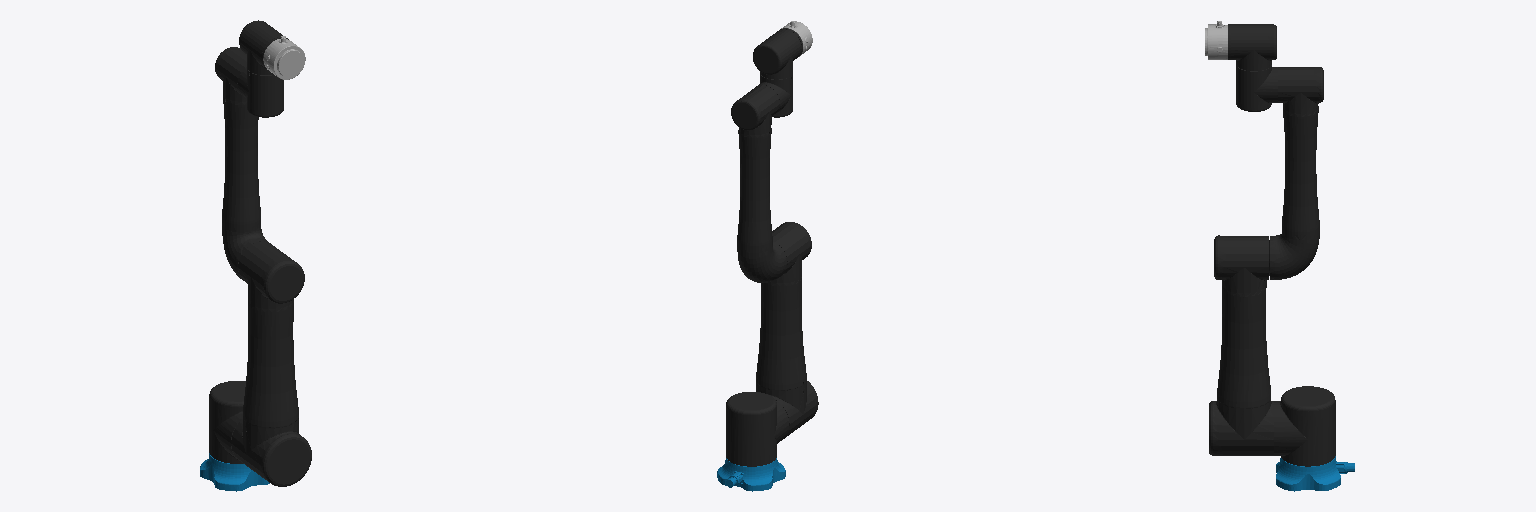
robot.urdf — orion5:
<?xml version="1.0" ?>

<robot name="orion5">

  <link name="world"/>

  <joint name="world_fixed_joint" type="fixed">
    <origin rpy="0 0 0" xyz="0.0 0.0 0.0"/>
    <parent link="world"/>
    <child link="base_link"/>
  </joint>

  <material name="black">
    <color rgba="0.2 0.2 0.2 1.0"/>
  </material>
  <material name="gray">
    <color rgba="0.7 0.7 0.7 1.0"/>
  </material>
  <material name="blue">
    <color rgba="0.1 0.5 0.7 1.0"/>
  </material>

  <link name="base_link">
    <inertial>
      <origin rpy="0 0 0" xyz="0.00000 0.00169 0.02699"/>
      <mass value="0.43234"/>
      <inertia ixx="0.00108" ixy="0.00002" ixz="0.00000" iyy="0.00063" iyz="-0.00004" izz="0.00144"/>
    </inertial>
    <visual>
      <origin rpy="0 0 1.57080" xyz="0 0 0"/>
      <geometry>
        <mesh filename="package://orion5_humble_description/meshes/stl/base_link.stl"/>
      </geometry>
      <material name="blue"/>
    </visual>
    <collision>
      <origin rpy="0 0 1.57080" xyz="0 0 0"/>
      <geometry>
        <mesh filename="package://orion5_humble_description/meshes/stl/base_link.stl"/>
      </geometry>
    </collision>
  </link>

  <joint name="joint_1" type="revolute">
    <origin rpy="0 0 0" xyz="0 0 0"/>
    <parent link="base_link"/>
    <child link="link_1"/>
    <axis xyz="0 0 1"/>
    <limit effort="87" lower="-3.14" upper="3.14" velocity="1.57"/>
    <dynamics damping="0.1" friction="0.1"/>
  </joint>

  <link name="link_1">
    <inertial>
      <origin rpy="0 0 0" xyz="-0.00001 -0.00518 0.12742"/>
      <mass value="1.49770"/>
      <inertia ixx="0.00534" ixy="0.00007" ixz="-0.00005" iyy="0.00429" iyz="0.00042" izz="0.00403"/>
    </inertial>
    <visual>
      <origin rpy="0 0 -1.57080" xyz="0 0 0.05375"/>
      <geometry>
        <mesh filename="package://orion5_humble_description/meshes/stl/link_1.stl"/>
      </geometry>
      <material name="black"/>
    </visual>
    <collision>
      <origin rpy="0 0 -1.57080" xyz="0 0 0.05375"/>
      <geometry>
        <mesh filename="package://orion5_humble_description/meshes/stl/link_1.stl"/>
      </geometry>
    </collision>
  </link>

  <joint name="joint_2" type="revolute">
    <origin rpy="1.57080 0 0" xyz="0 0 0.12200"/>
    <parent link="link_1"/>
    <child link="link_2"/>
    <axis xyz="0 0 1"/>
    <limit effort="87" lower="-3.14" upper="3.14" velocity="1.57"/>
    <dynamics damping="0.1" friction="0.1"/>
  </joint>

  <link name="link_2">
    <inertial>
      <origin rpy="0 0 0" xyz="0.00000 0.17648 0.14370"/>
      <mass value="3.95670"/>
      <inertia ixx="0.10620" ixy="0.00007" ixz="0.00010" iyy="0.10302" iyz="-0.00106" izz="0.00923"/>
    </inertial>
    <visual>
      <origin rpy="0 0 0" xyz="0 0 0.06300"/>
      <geometry>
        <mesh filename="package://orion5_humble_description/meshes/stl/link_2.stl"/>
      </geometry>
      <material name="black"/>
    </visual>
    <collision>
      <origin rpy="0 0 0" xyz="0 0 0.06300"/>
      <geometry>
        <mesh filename="package://orion5_humble_description/meshes/stl/link_2.stl"/>
      </geometry>
    </collision>
  </link>

  <joint name="joint_3" type="revolute">
    <origin rpy="0 0 -1.57080" xyz="0 0.42100 0"/>
    <parent link="link_2"/>
    <child link="link_3"/>
    <axis xyz="0 0 1"/>
    <limit effort="52" lower="-3.14" upper="3.14" velocity="1.57"/>
    <dynamics damping="0.1" friction="0.1"/>
  </joint>

  <link name="link_3">
    <inertial>
      <origin rpy="0 0 0" xyz="-0.20718 0.00000 0.02333"/>
      <mass value="1.08680"/>
      <inertia ixx="0.02873" ixy="0.00000" ixz="-0.00005" iyy="0.02832" iyz="-0.00127" izz="0.00131"/>
    </inertial>
    <visual>
      <origin rpy="-3.14159 0 1.57080" xyz="0 0 0.08650"/>
      <geometry>
        <mesh filename="package://orion5_humble_description/meshes/stl/link_3.stl"/>
      </geometry>
      <material name="black"/>
    </visual>
    <collision>
      <origin rpy="-3.14159 0 1.57080" xyz="0 0 0.08650"/>
      <geometry>
        <mesh filename="package://orion5_humble_description/meshes/stl/link_3.stl"/>
      </geometry>
    </collision>
  </link>

  <joint name="joint_4" type="revolute">
    <origin rpy="0 0 0" xyz="-0.42700 0 0"/>
    <parent link="link_3"/>
    <child link="link_4"/>
    <axis xyz="0 0 1"/>
    <limit effort="10" lower="-3.14" upper="3.14" velocity="1.57"/>
    <dynamics damping="0.1" friction="0.1"/>
  </joint>

  <link name="link_4">
    <inertial>
      <origin rpy="0 0 0" xyz="-0.00399 0.00000 0.11685"/>
      <mass value="0.50427"/>
      <inertia ixx="0.00073" ixy="0.00000" ixz="0.00000" iyy="0.00066" iyz="0.00001" izz="0.00049"/>
    </inertial>
    <visual>
      <origin rpy="0 0 -1.57080" xyz="0 0 0.06800"/>
      <geometry>
        <mesh filename="package://orion5_humble_description/meshes/stl/link_4.stl"/>
      </geometry>
      <material name="black"/>
    </visual>
    <collision>
      <origin rpy="0 0 -1.57080" xyz="0 0 0.06800"/>
      <geometry>
        <mesh filename="package://orion5_humble_description/meshes/stl/link_4.stl"/>
      </geometry>
    </collision>
  </link>

  <joint name="joint_5" type="revolute">
    <origin rpy="1.57080 0 -1.57080" xyz="0 0 0.12100"/>
    <parent link="link_4"/>
    <child link="link_5"/>
    <axis xyz="0 0 1"/>
    <limit effort="10" lower="-3.14" upper="3.14" velocity="1.57"/>
    <dynamics damping="0.1" friction="0.1"/>
  </joint>

  <link name="link_5">
    <inertial>
      <origin rpy="0 0 0" xyz="0.00000 0.00467 0.10098"/>
      <mass value="0.23998"/>
      <inertia ixx="0.00045" ixy="-0.00000" ixz="-0.00000" iyy="0.00023" iyz="-0.00001" izz="0.00041"/>
    </inertial>
    <visual>
      <origin rpy="0 0 1.57080" xyz="0 0 0.05200"/>
      <geometry>
        <mesh filename="package://orion5_humble_description/meshes/stl/link_5.stl"/>
      </geometry>
      <material name="black"/>
    </visual>
    <collision>
      <origin rpy="0 0 1.57080" xyz="0 0 0.05200"/>
      <geometry>
        <mesh filename="package://orion5_humble_description/meshes/stl/link_5.stl"/>
      </geometry>
    </collision>
  </link>

  <joint name="joint_6" type="revolute">
    <origin rpy="-1.57080 0 0" xyz="0 0 0.10500"/>
    <parent link="link_5"/>
    <child link="link_6"/>
    <axis xyz="0 0 1"/>
    <limit effort="10" lower="-3.14" upper="3.14" velocity="1.57"/>
    <dynamics damping="0.1" friction="0.1"/>
  </joint>

  <link name="link_6">
    <inertial>
      <origin rpy="0 0 0" xyz="0.00003 -0.00024 0.08347"/>
      <mass value="0.23998"/>
      <inertia ixx="0.00024" ixy="0.00000" ixz="0.00001" iyy="0.00029" iyz="-0.00001" izz="0.00014"/>
    </inertial>
    <visual>
      <origin rpy="0 0 0" xyz="0 0 0.05900"/>
      <geometry>
        <mesh filename="package://orion5_humble_description/meshes/stl/link_6.stl"/>
      </geometry>
      <material name="gray"/>
    </visual>
    <collision>
      <origin rpy="0 0 0" xyz="0 0 0.05900"/>
      <geometry>
        <mesh filename="package://orion5_humble_description/meshes/stl/link_6.stl"/>
      </geometry>
    </collision>
  </link>

  <joint name="tool0_fixed_joint" type="fixed">
    <origin rpy="0 0 0" xyz="0 0 0.1089"/>
    <parent link="link_6"/>
    <child link="tool0"/>
  </joint>

  <link name="tool0">
    <inertial>
      <origin rpy="0 0 0" xyz="0 0 0"/>
      <mass value="0.0"/>
      <inertia ixx="0" ixy="0" ixz="0" iyy="0" iyz="0" izz="0"/>
    </inertial>
  </link>

  <!-- Gazebo Ros Transmission -->
  <transmission name="j1_transmission">
    <type>transmission_interface/SimpleTransmission</type>
    <joint name="joint_1">
      <hardwareInterface>hardware_interface/EffortJointInterface</hardwareInterface>
    </joint>
    <actuator name="j1_actuator">
      <hardwareInterface>hardware_interface/EffortJointInterface</hardwareInterface>
      <mechanicalReduction>1</mechanicalReduction>
    </actuator>
  </transmission>
  <transmission name="j2_transmission">
    <type>transmission_interface/SimpleTransmission</type>
    <joint name="joint_2">
      <hardwareInterface>hardware_interface/EffortJointInterface</hardwareInterface>
    </joint>
    <actuator name="j2_actuator">
      <hardwareInterface>hardware_interface/EffortJointInterface</hardwareInterface>
      <mechanicalReduction>1</mechanicalReduction>
    </actuator>
  </transmission>
  <transmission name="j3_transmission">
    <type>transmission_interface/SimpleTransmission</type>
    <joint name="joint_3">
      <hardwareInterface>hardware_interface/EffortJointInterface</hardwareInterface>
    </joint>
    <actuator name="j3_actuator">
      <hardwareInterface>hardware_interface/EffortJointInterface</hardwareInterface>
      <mechanicalReduction>1</mechanicalReduction>
    </actuator>
  </transmission>
  <transmission name="j4_transmission">
    <type>transmission_interface/SimpleTransmission</type>
    <joint name="joint_4">
      <hardwareInterface>hardware_interface/EffortJointInterface</hardwareInterface>
    </joint>
    <actuator name="j4_actuator">
      <hardwareInterface>hardware_interface/EffortJointInterface</hardwareInterface>
      <mechanicalReduction>1</mechanicalReduction>
    </actuator>
  </transmission>
  <transmission name="j5_transmission">
    <type>transmission_interface/SimpleTransmission</type>
    <joint name="joint_5">
      <hardwareInterface>hardware_interface/EffortJointInterface</hardwareInterface>
    </joint>
    <actuator name="j5_actuator">
      <hardwareInterface>hardware_interface/EffortJointInterface</hardwareInterface>
      <mechanicalReduction>1</mechanicalReduction>
    </actuator>
  </transmission>
  <transmission name="j6_transmission">
    <type>transmission_interface/SimpleTransmission</type>
    <joint name="joint_6">
      <hardwareInterface>hardware_interface/EffortJointInterface</hardwareInterface>
    </joint>
    <actuator name="j6_actuator">
      <hardwareInterface>hardware_interface/EffortJointInterface</hardwareInterface>
      <mechanicalReduction>1</mechanicalReduction>
    </actuator>
  </transmission>

  <!-- Gazebo ROS Control Plugin -->
  <gazebo>
    <plugin filename="libgazebo_ros_control.so" name="gazebo_ros_control"/>
  </gazebo>

  <!-- Gazebo Colors -->
  <gazebo reference="base_link">
    <material>Gazebo/SkyBlue</material>
    <mu1>0.2</mu1>
    <mu2>0.2</mu2>
    <selfCollide>true</selfCollide>
    <gravity>true</gravity>
  </gazebo>
  <gazebo reference="link_1">
    <material>Gazebo/DarkGray</material>
    <mu1>0.2</mu1>
    <mu2>0.2</mu2>
    <selfCollide>true</selfCollide>
  </gazebo>
  <gazebo reference="link_2">
    <material>Gazebo/DarkGray</material>
    <mu1>0.2</mu1>
    <mu2>0.2</mu2>
    <selfCollide>true</selfCollide>
  </gazebo>
  <gazebo reference="link_3">
    <material>Gazebo/DarkGray</material>
    <mu1>0.2</mu1>
    <mu2>0.2</mu2>
    <selfCollide>true</selfCollide>
  </gazebo>
  <gazebo reference="link_4">
    <material>Gazebo/DarkGray</material>
    <mu1>0.2</mu1>
    <mu2>0.2</mu2>
    <selfCollide>true</selfCollide>
  </gazebo>
  <gazebo reference="link_5">
    <material>Gazebo/DarkGray</material>
    <mu1>0.2</mu1>
    <mu2>0.2</mu2>
    <selfCollide>true</selfCollide>
  </gazebo>
  <gazebo reference="link_6">
    <material>Gazebo/Gray</material>
    <mu1>0.2</mu1>
    <mu2>0.2</mu2>
    <selfCollide>true</selfCollide>
  </gazebo>

  <!-- ROS 2 Humble ros2_control block (effort command interface) -->
  <ros2_control name="Orion5System" type="system">
    <hardware>
      <plugin>mujoco_pendulum::MujocoSystem</plugin>
      <param name="mujoco_model">orion5</param>
    </hardware>

    <joint name="joint_1">
      <command_interface name="effort"/>
      <state_interface name="position"/>
      <state_interface name="velocity"/>
      <state_interface name="effort"/>
    </joint>
    <joint name="joint_2">
      <command_interface name="effort"/>
      <state_interface name="position"/>
      <state_interface name="velocity"/>
      <state_interface name="effort"/>
    </joint>
    <joint name="joint_3">
      <command_interface name="effort"/>
      <state_interface name="position"/>
      <state_interface name="velocity"/>
      <state_interface name="effort"/>
    </joint>
    <joint name="joint_4">
      <command_interface name="effort"/>
      <state_interface name="position"/>
      <state_interface name="velocity"/>
      <state_interface name="effort"/>
    </joint>
    <joint name="joint_5">
      <command_interface name="effort"/>
      <state_interface name="position"/>
      <state_interface name="velocity"/>
      <state_interface name="effort"/>
    </joint>
    <joint name="joint_6">
      <command_interface name="effort"/>
      <state_interface name="position"/>
      <state_interface name="velocity"/>
      <state_interface name="effort"/>
    </joint>
  </ros2_control>

</robot>

--- What the picture shows (computed from the rendered views, not written in the file) ---
3 views of the same robot in one strip: view 1: azimuth 30°, elevation 25°; view 2: azimuth 150°, elevation 25°; view 3: azimuth 270°, elevation 25° (orthographic).
Robot: orion5 — 9 links, 8 joints (6 revolute, 2 fixed); root link world; default pose: every joint at zero.
Links seen in each view (by area): view 1: link_2, link_3, link_1, link_4, base_link, link_5, link_6; view 2: link_2, link_3, link_1, link_5, base_link, link_4; view 3: link_2, link_3, link_1, link_5, base_link, link_4, link_6.
Link boxes in pixels (x1,y1,x2,y2): link_2: [231, 241, 311, 486]; link_3: [215, 47, 268, 280]; link_1: [209, 381, 245, 463]; link_4: [237, 67, 283, 117]; base_link: [200, 453, 269, 491]; link_5: [239, 20, 288, 74]; link_6: [263, 36, 305, 79]; link_2: [756, 222, 818, 438]; link_3: [731, 85, 787, 282]; link_1: [726, 392, 788, 466]; link_5: [753, 28, 802, 79]; base_link: [717, 458, 785, 491]; link_4: [756, 74, 792, 117]; link_2: [1209, 235, 1273, 455]; link_3: [1270, 67, 1323, 279]; link_1: [1274, 386, 1335, 466]; link_5: [1228, 24, 1276, 70]; base_link: [1276, 456, 1354, 491]; link_4: [1236, 65, 1277, 111]; link_6: [1205, 21, 1227, 59].
Size in the robot's own frame: 0.146 by 0.3365 by 1.13 metres.
7 mesh visuals loaded from 7 distinct referenced files (7 binary STL).
